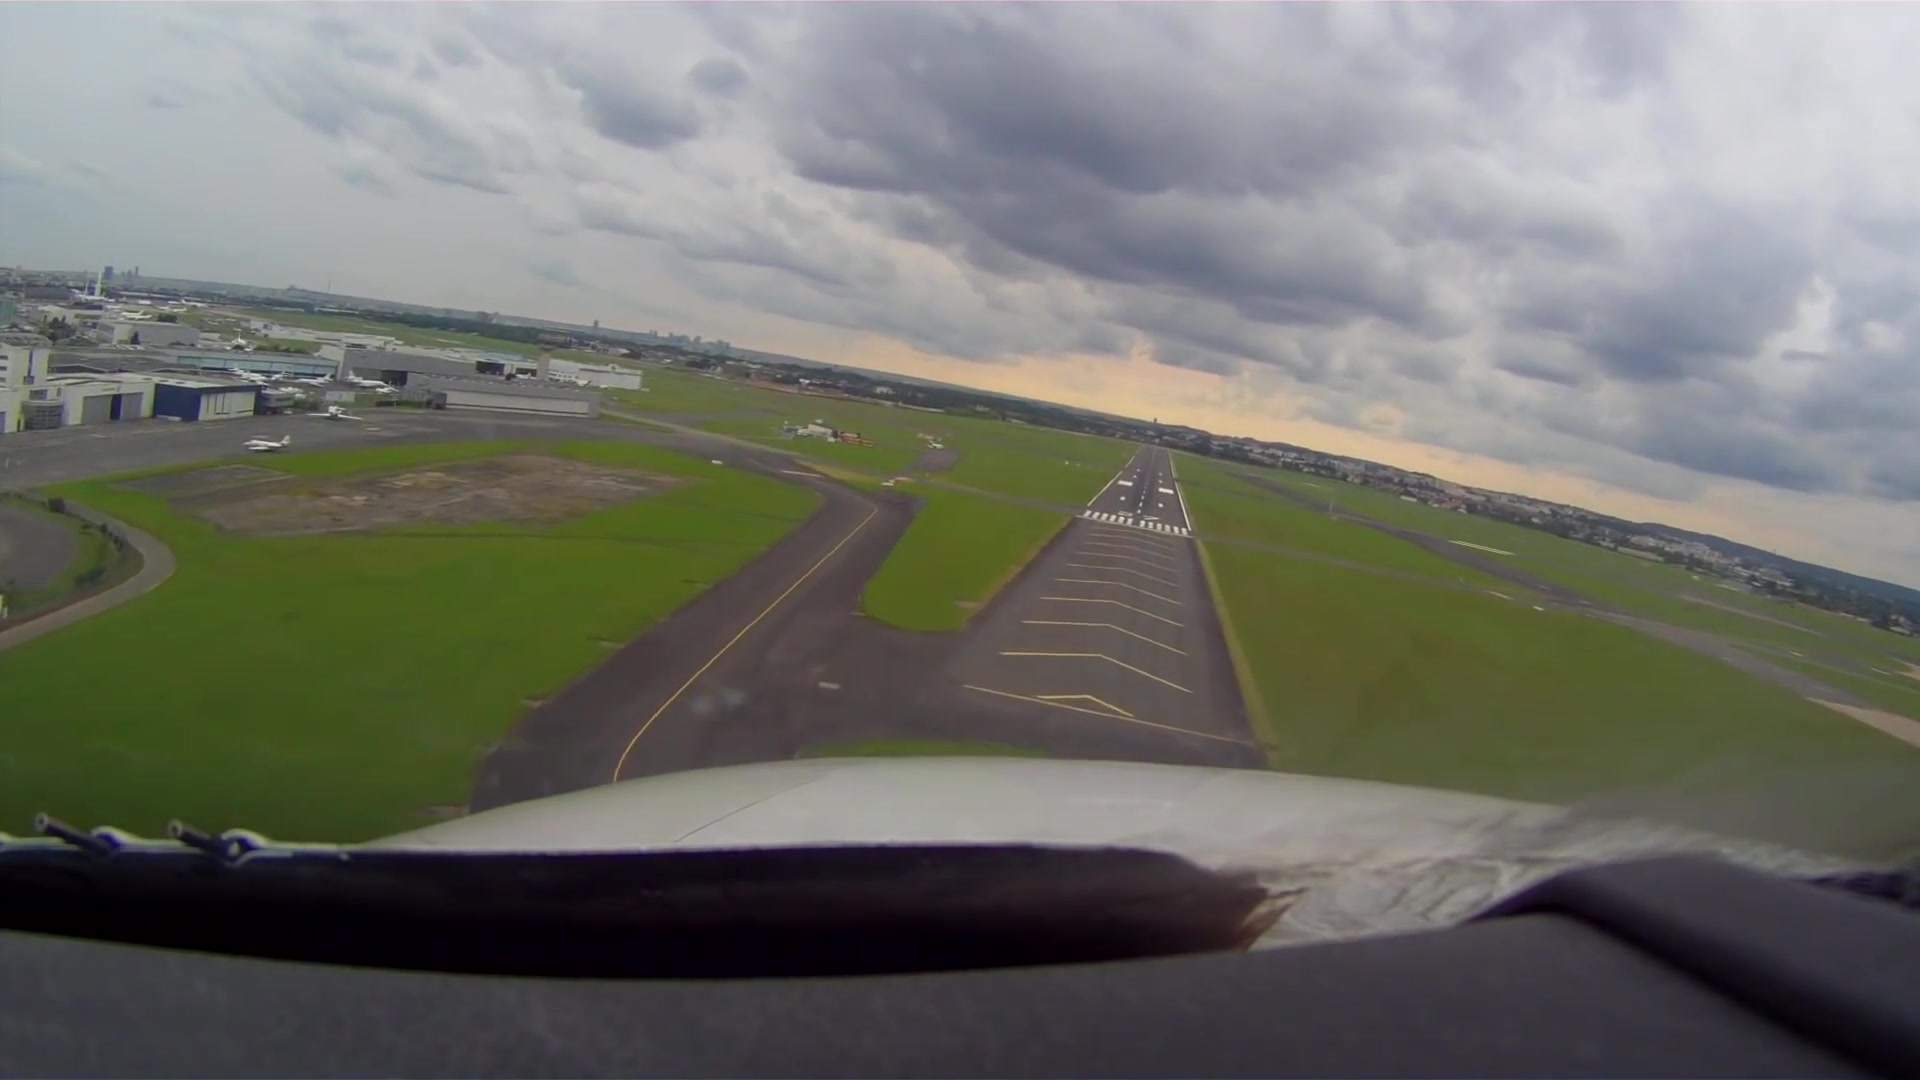entrance: (1081, 509, 1189, 535)
runway: (1079, 442, 1195, 541)
